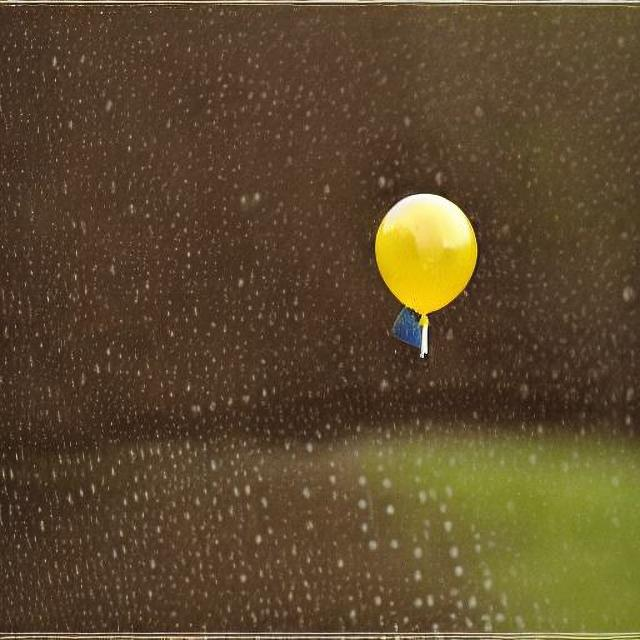balloon: (367, 188, 477, 351)
